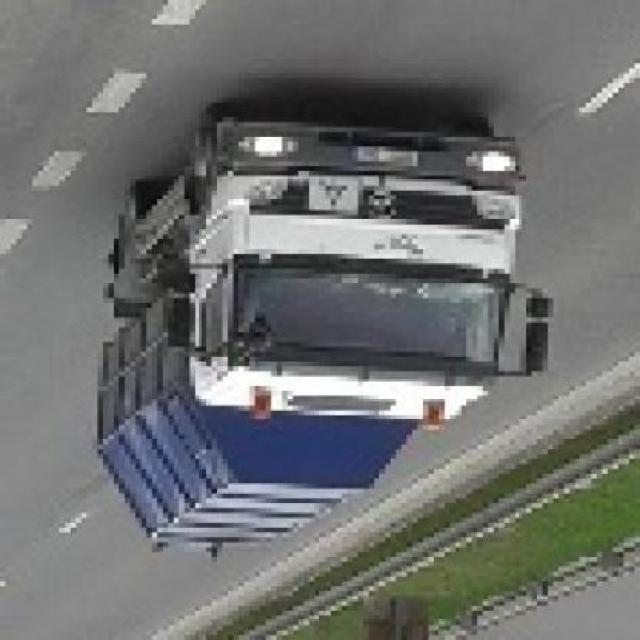truck: (99, 99, 560, 559)
